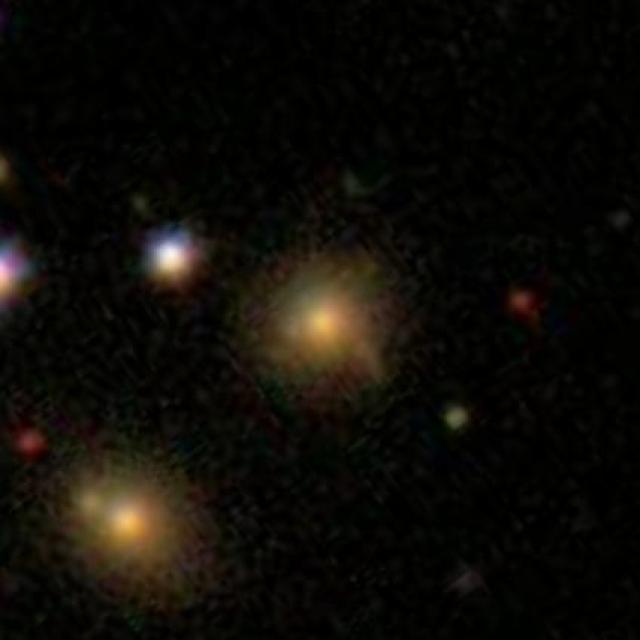galaxy: (244, 229, 425, 397), (55, 433, 222, 608), (135, 226, 213, 291), (1, 242, 53, 313), (504, 286, 546, 323), (438, 401, 474, 435), (15, 426, 47, 463), (1, 151, 15, 192)
